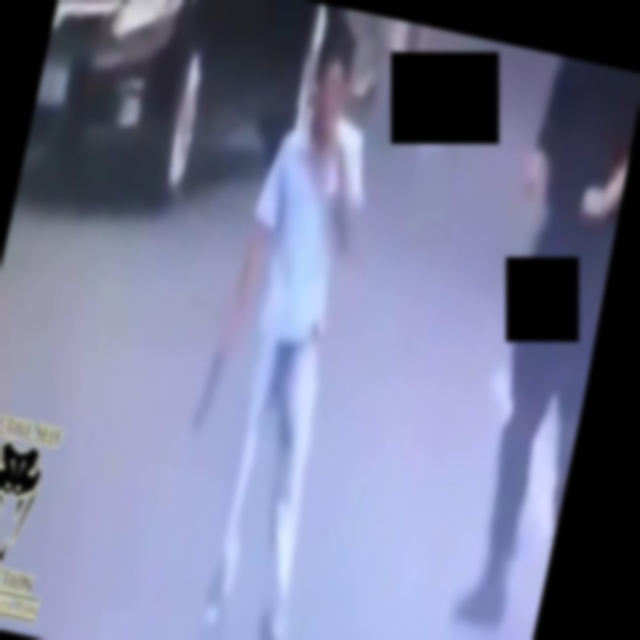gun: (183, 325, 238, 442)
